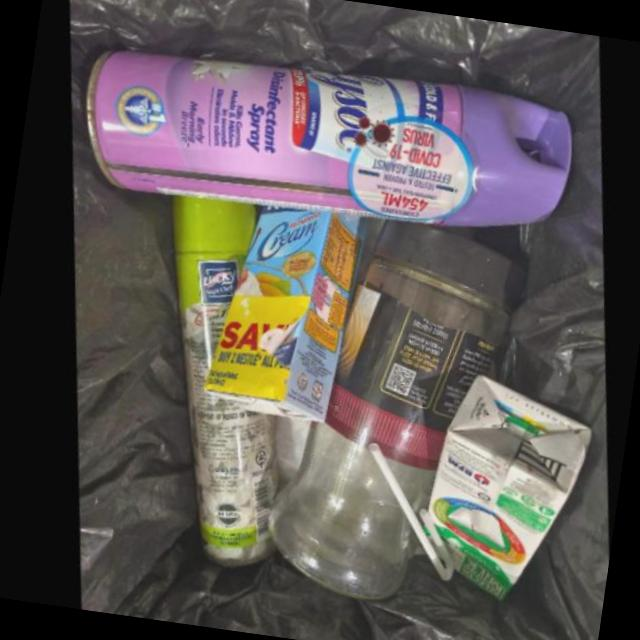hop_nhua: (269, 222, 527, 602)
nhom: (85, 53, 575, 229), (173, 199, 280, 571)
ong_hut_nhua: (370, 445, 456, 583)
vo_hop_sua: (430, 376, 594, 601), (204, 211, 369, 426)
